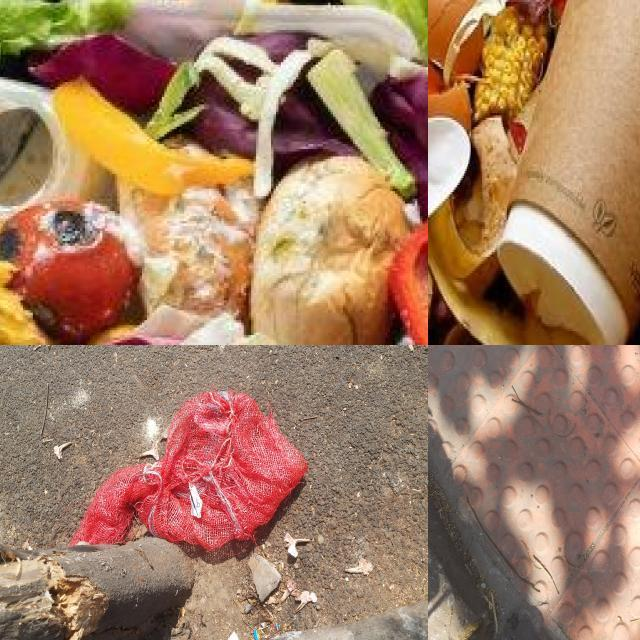Background: (0, 345, 428, 640), (428, 345, 640, 640)
Disposable: (499, 0, 640, 345), (428, 116, 470, 213)
Garbage: (428, 0, 640, 345)
Plastic_Bag: (70, 391, 307, 551)
Plastic_bottle: (0, 79, 114, 217)
